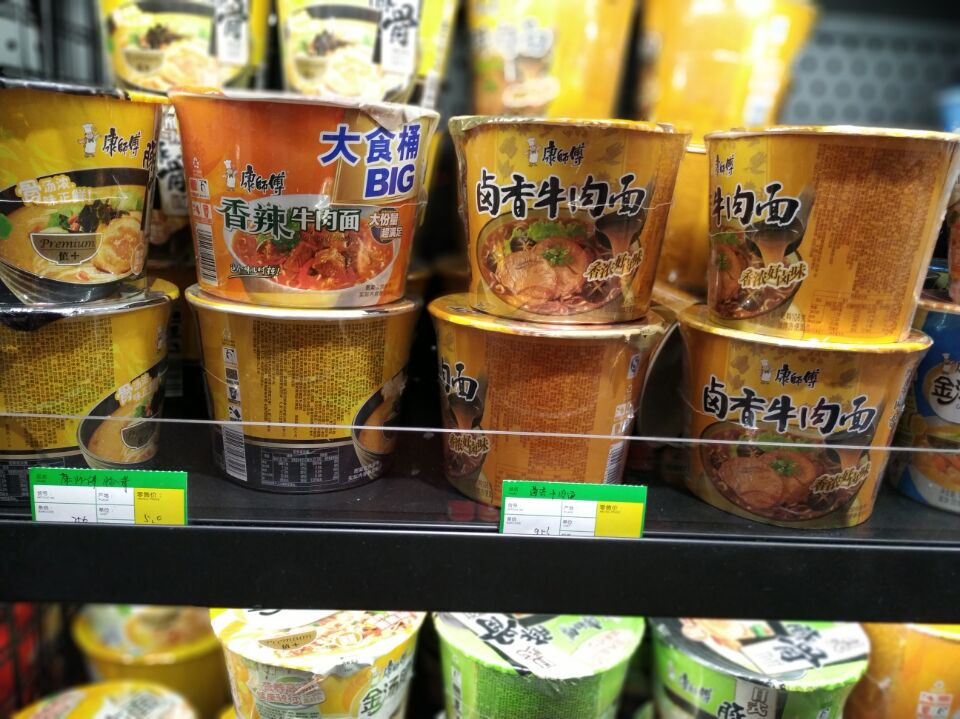luxiang: (702, 122, 960, 348), (683, 304, 935, 532), (425, 293, 681, 510), (445, 113, 693, 326)
xiangla: (167, 91, 443, 310)
